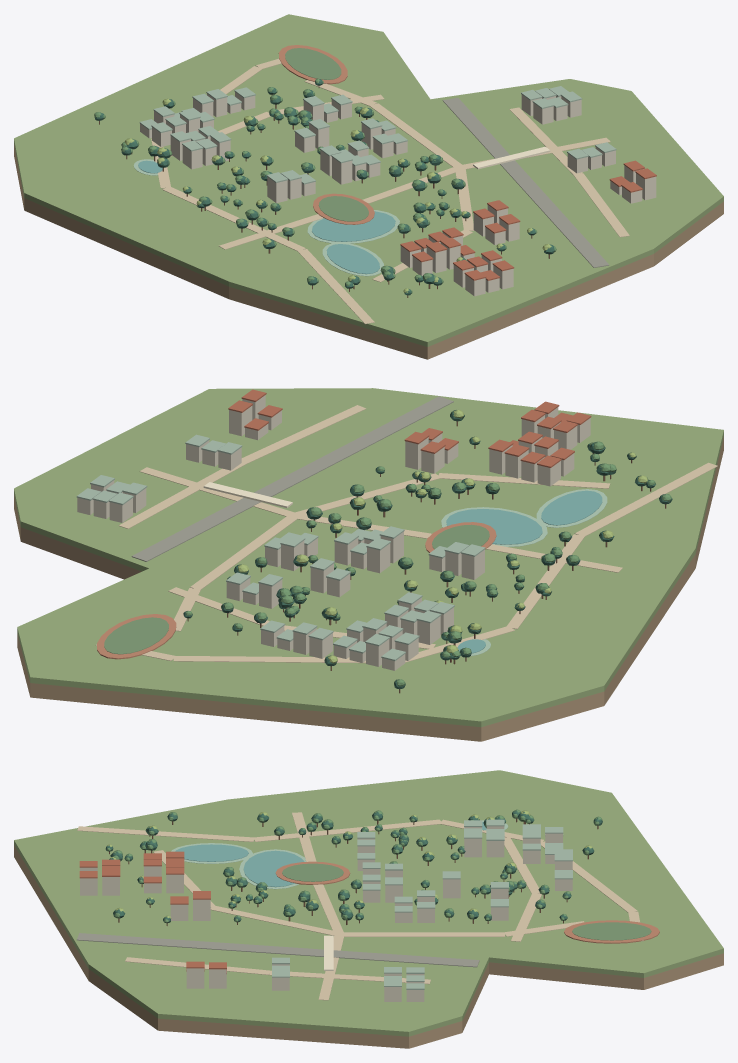
3 views of the same model, one above another, from view 1: azimuth 30°, elevation 25°; view 2: azimuth 150°, elevation 25°; view 3: azimuth 270°, elevation 25° (orthographic). The views are drawn at different scales.
Bounding box in the file's own units: 116 × 8.28 × 133.
